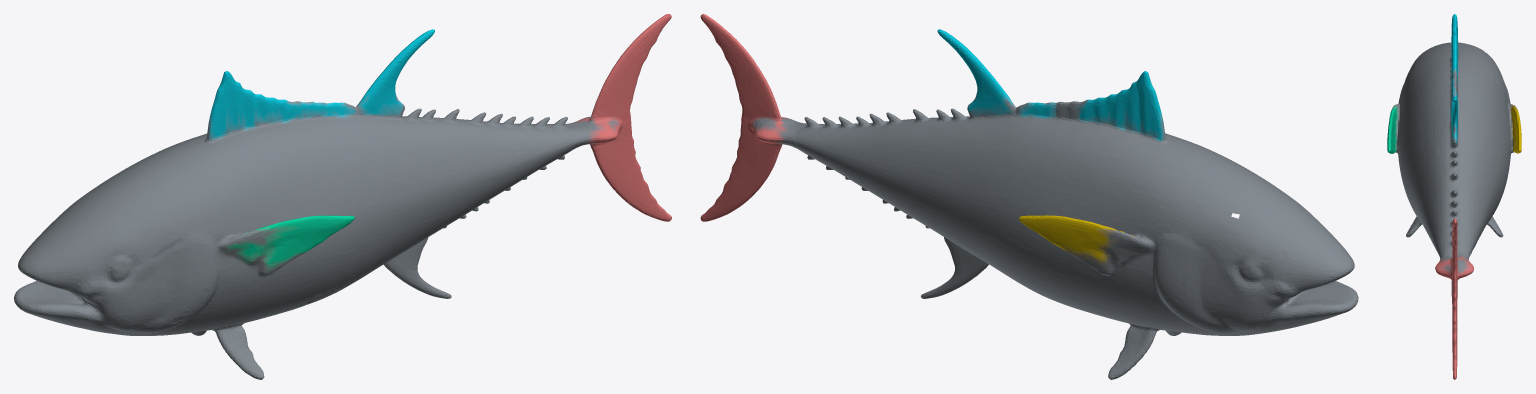
File: tuna_segmented.glb
The picture shows the model from 3 angles, left to right: view 1: azimuth 30°, elevation 25°; view 2: azimuth 150°, elevation 25°; view 3: azimuth 270°, elevation 25°; orthographic projection. The views are drawn at different scales.
Visible parts, largest first — view 1: world; view 2: world; view 3: world.
Part boxes in pixels (box(x1,y1,x2,y2)): world: box(14, 14, 671, 379); world: box(700, 14, 1358, 379); world: box(1387, 14, 1521, 379).
Size of the model in its own units: 1.74 by 0.7324 by 0.4036.
